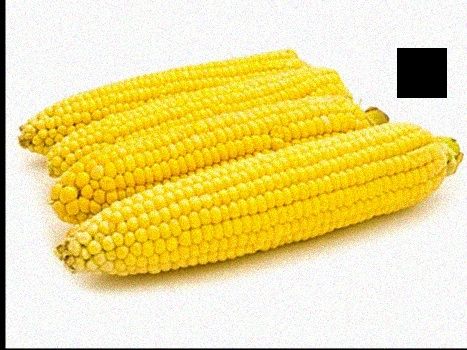corn: (62, 120, 450, 281), (45, 101, 375, 227), (41, 69, 337, 174)
